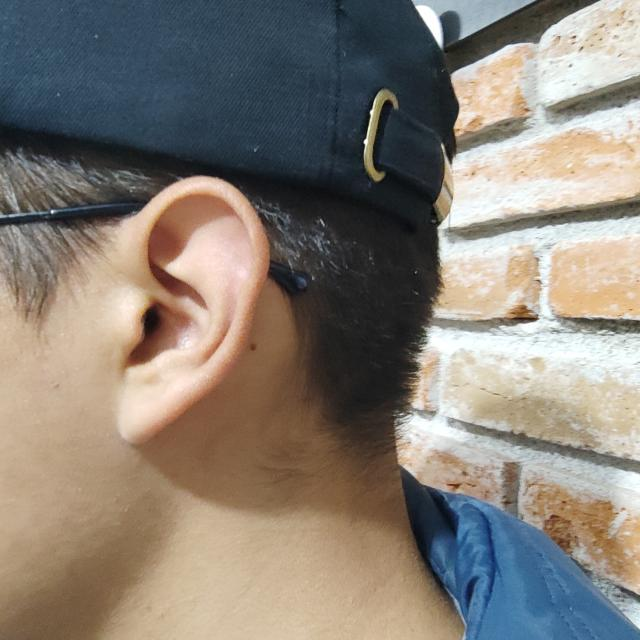ear: (95, 176, 269, 444)
